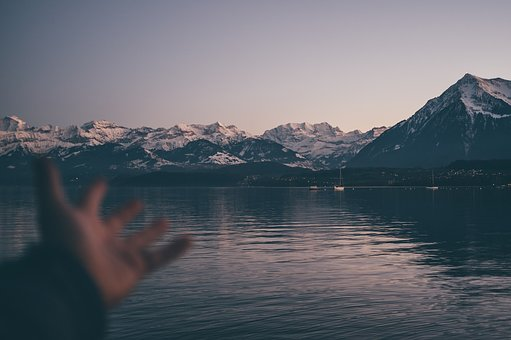palm: (71, 208, 156, 290)
